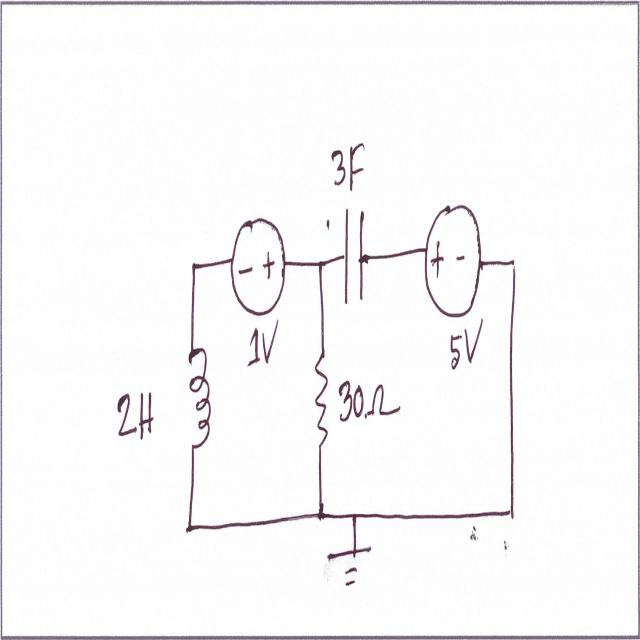capacitor: (341, 201, 369, 318)
ground: (322, 547, 380, 604)
inductor: (182, 329, 212, 459)
resistor: (314, 344, 332, 456)
voltage_source: (414, 193, 484, 324), (223, 215, 291, 323)
